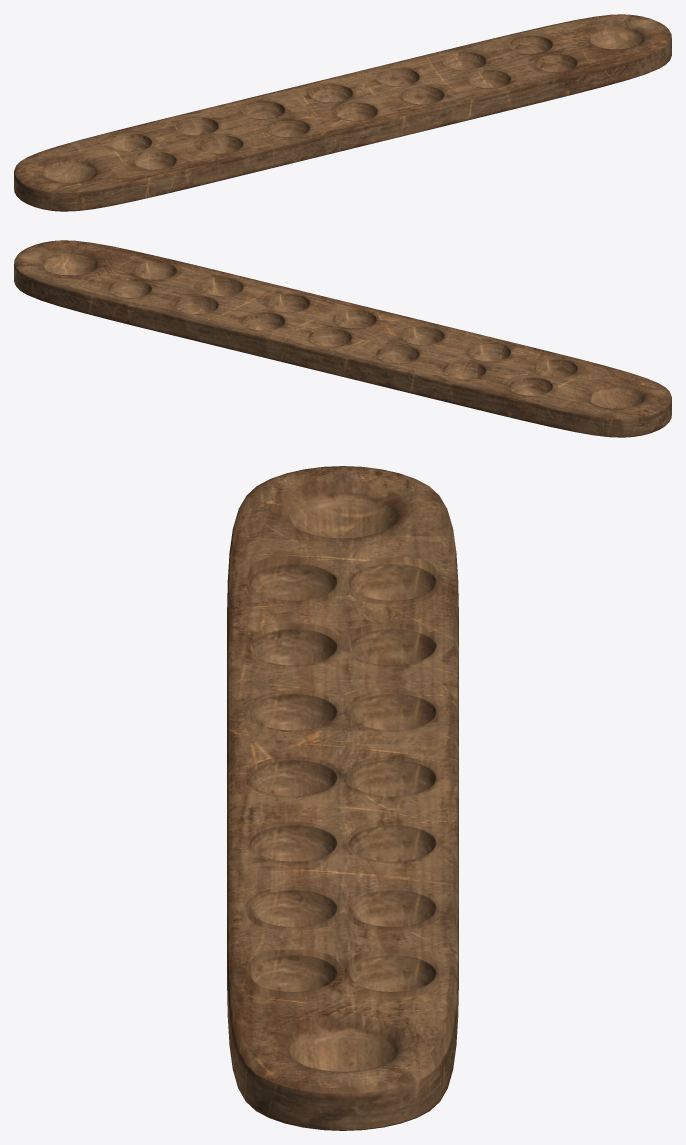
File: congkak.glb
3 renders of one model, top to bottom at view 1: azimuth 30°, elevation 25°; view 2: azimuth 150°, elevation 25°; view 3: azimuth 270°, elevation 25°, orthographic. The views are drawn at different scales.
Parts seen in each view (by area): view 1: congkak_low; view 2: congkak_low; view 3: congkak_low.
Part boxes in pixels (x1,y1,x2,y2): congkak_low: [14, 14, 671, 211]; congkak_low: [14, 240, 671, 437]; congkak_low: [227, 466, 458, 1130].
Bounding box in the file's own units: 93.01 × 3 × 14.5.
1 material, 1 textured.
